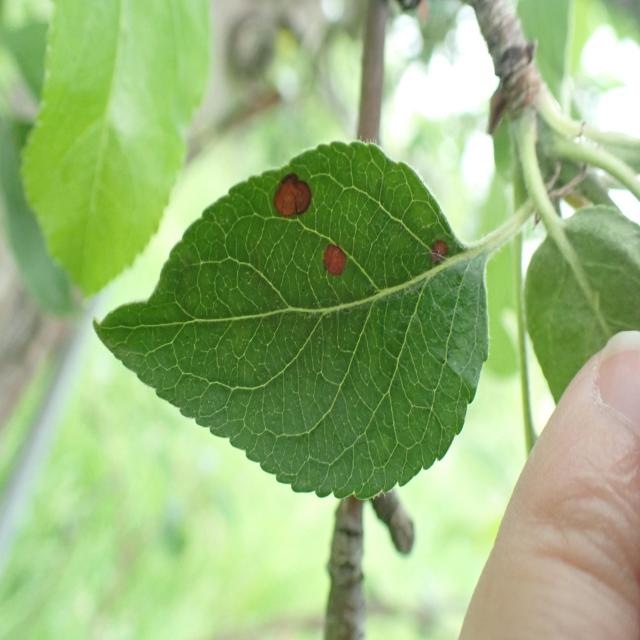Black Rot: (270, 164, 314, 238), (321, 234, 351, 292), (426, 222, 452, 276)
